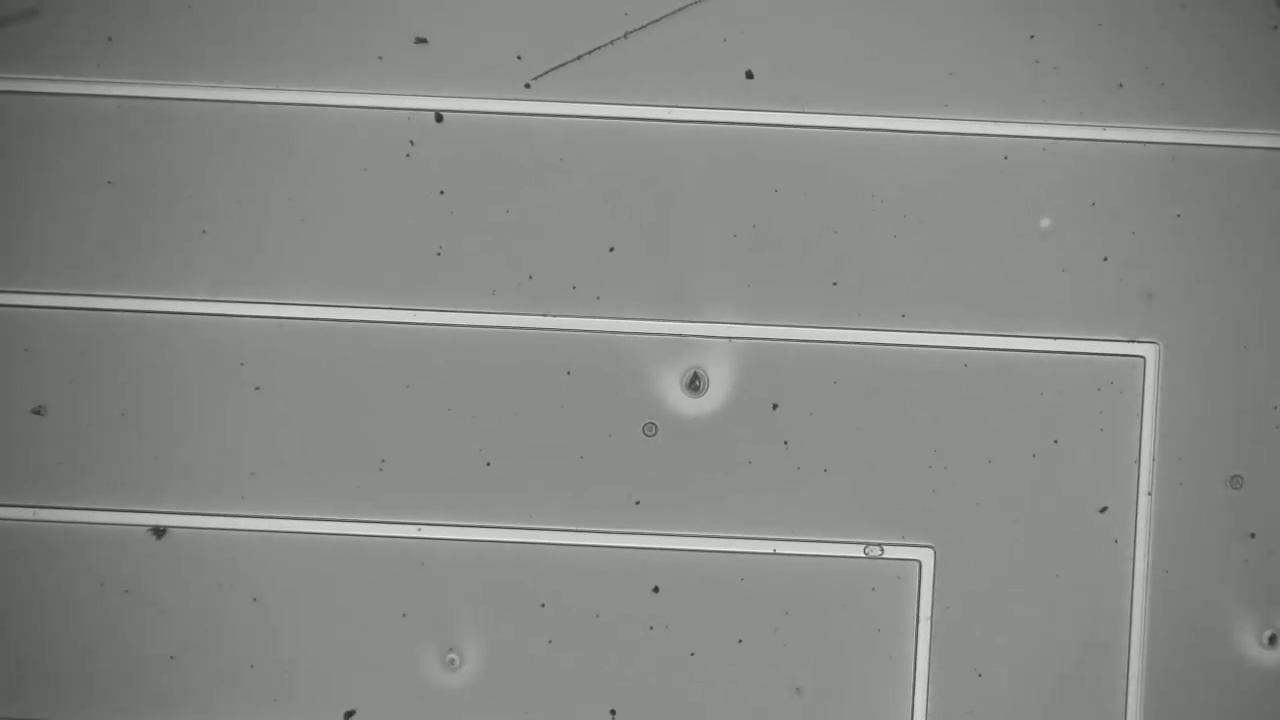scratch: (522, 1, 728, 93)
stains_enbedded: (854, 527, 889, 572)
